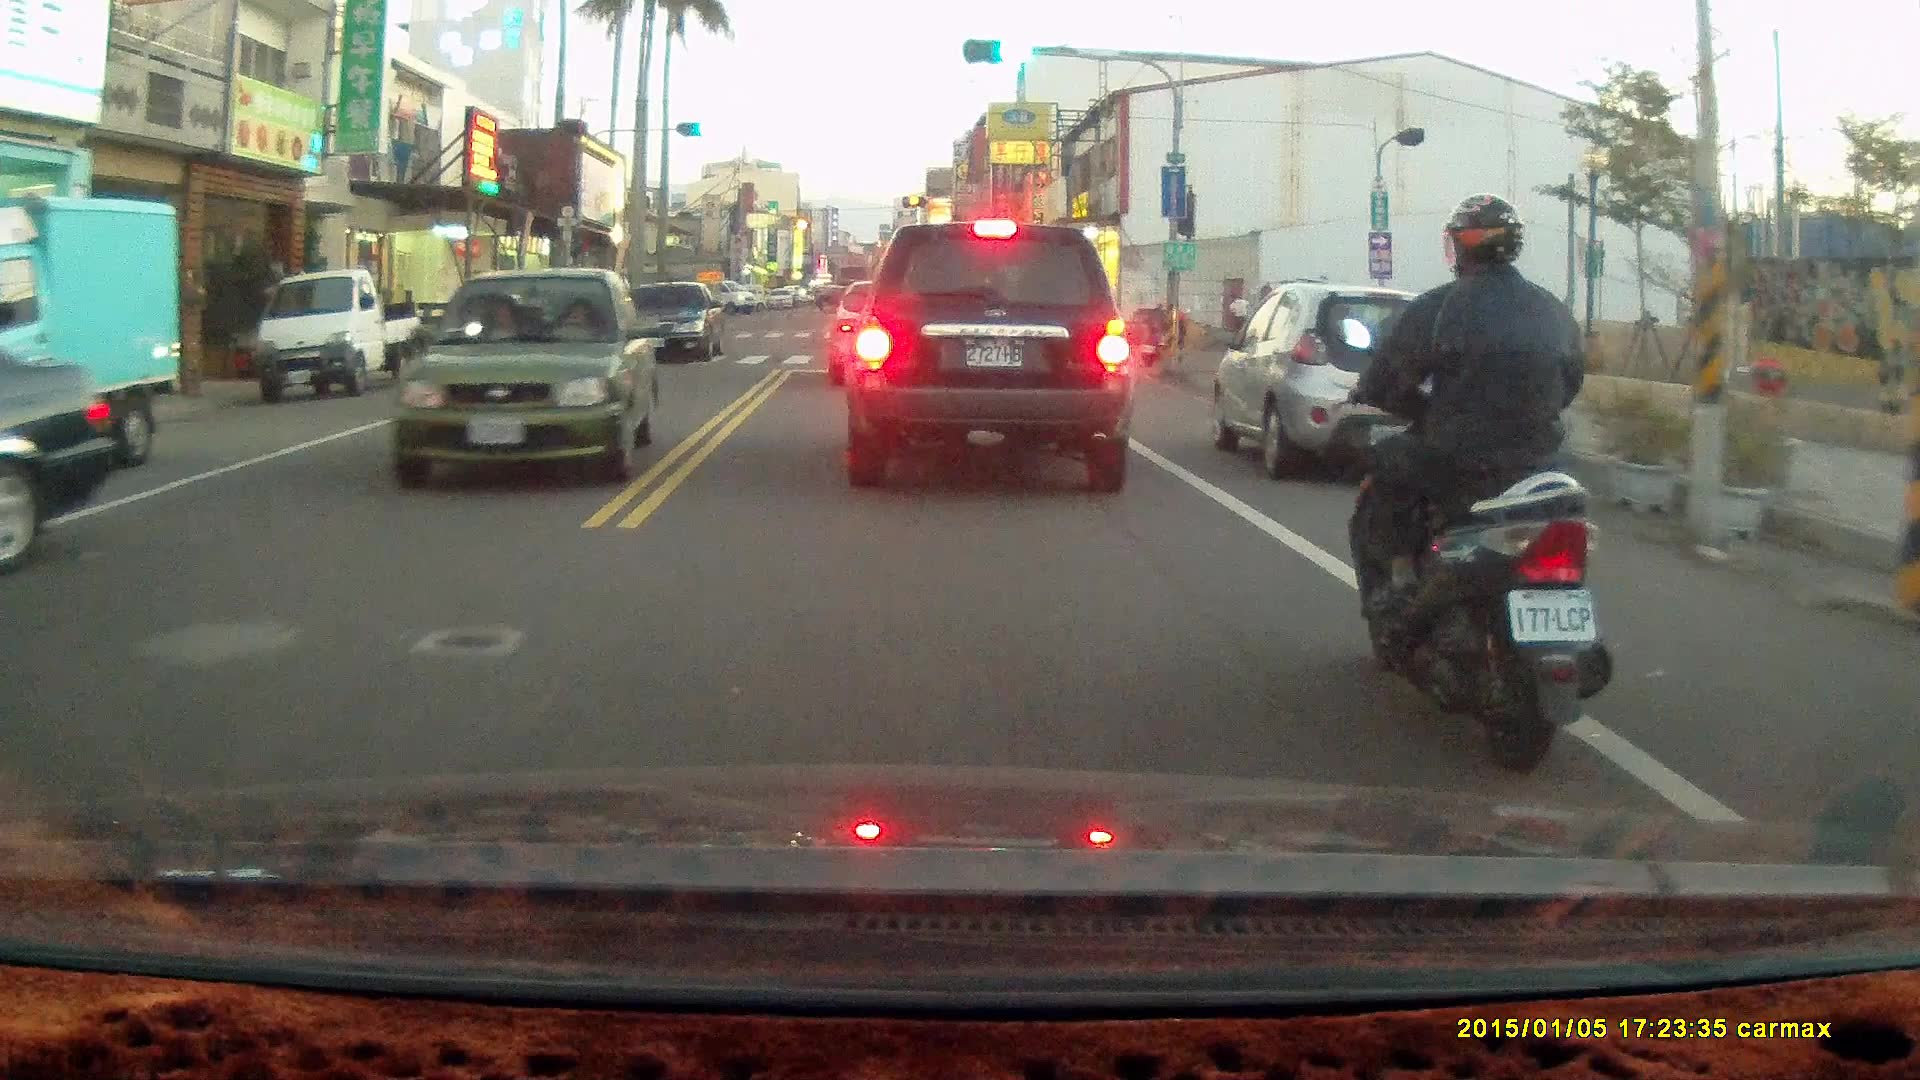pedestrian: (1224, 288, 1252, 359)
rider: (1338, 197, 1620, 781), (1141, 292, 1188, 367)
vehicle: (843, 223, 1137, 495), (1211, 282, 1497, 491), (387, 266, 655, 486), (1, 194, 186, 474), (1, 349, 128, 563), (252, 268, 427, 400), (614, 282, 728, 369)
